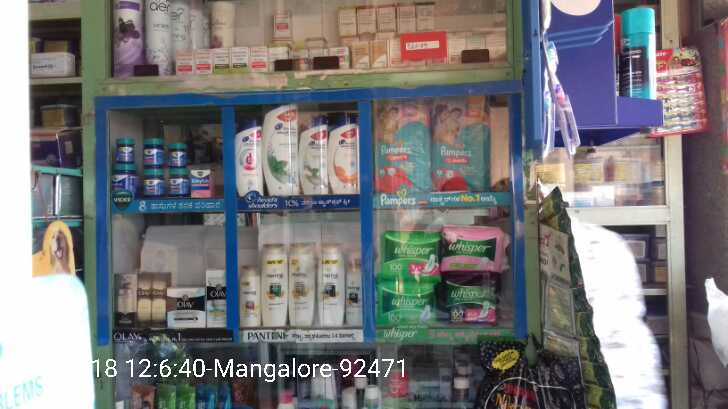vicks: (111, 137, 193, 200), (193, 167, 217, 200)
